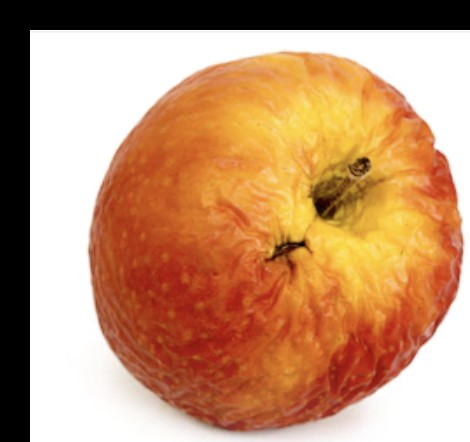rotten_apple: (90, 52, 465, 433)
